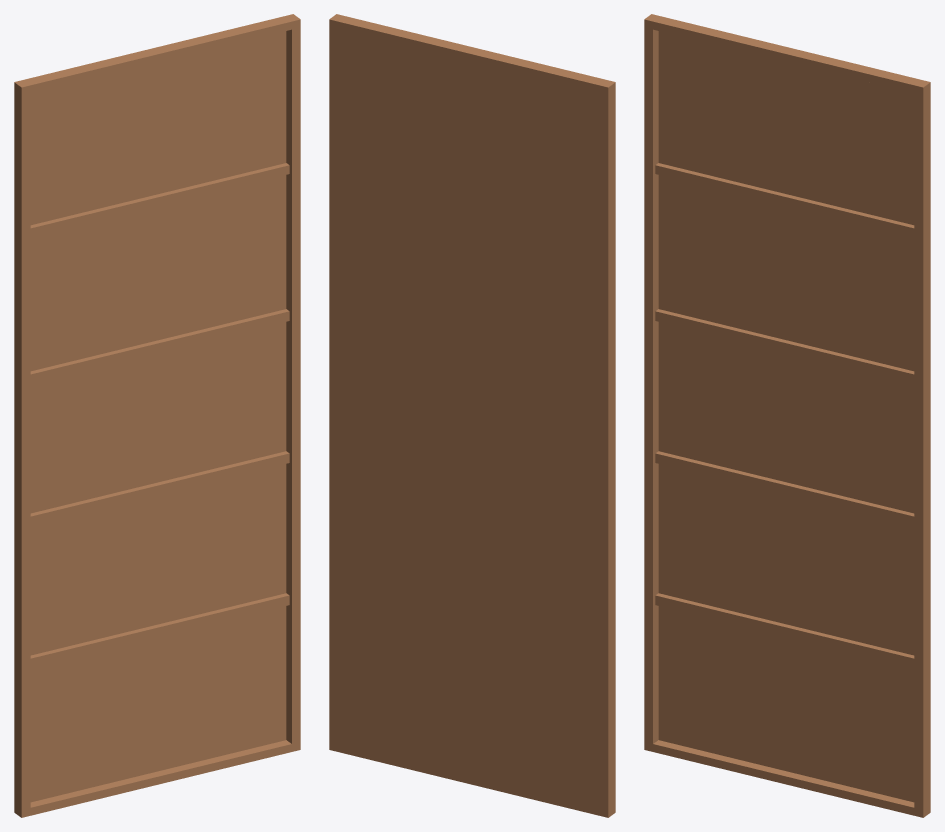
The model's file is Panel10by4.fbx.
3 renders of one model, left to right at view 1: azimuth 30°, elevation 25°; view 2: azimuth 150°, elevation 25°; view 3: azimuth 330°, elevation 25°, orthographic.
Visible parts, largest first — view 1: Panel10by4; view 2: Panel10by4; view 3: Panel10by4.
Boxes of the visible parts, <box> form: Panel10by4: <box>14,14,300,817</box>; Panel10by4: <box>329,14,615,817</box>; Panel10by4: <box>644,14,930,817</box>.
Bounding box in the file's own units: 112 × 5.16 × 280.
